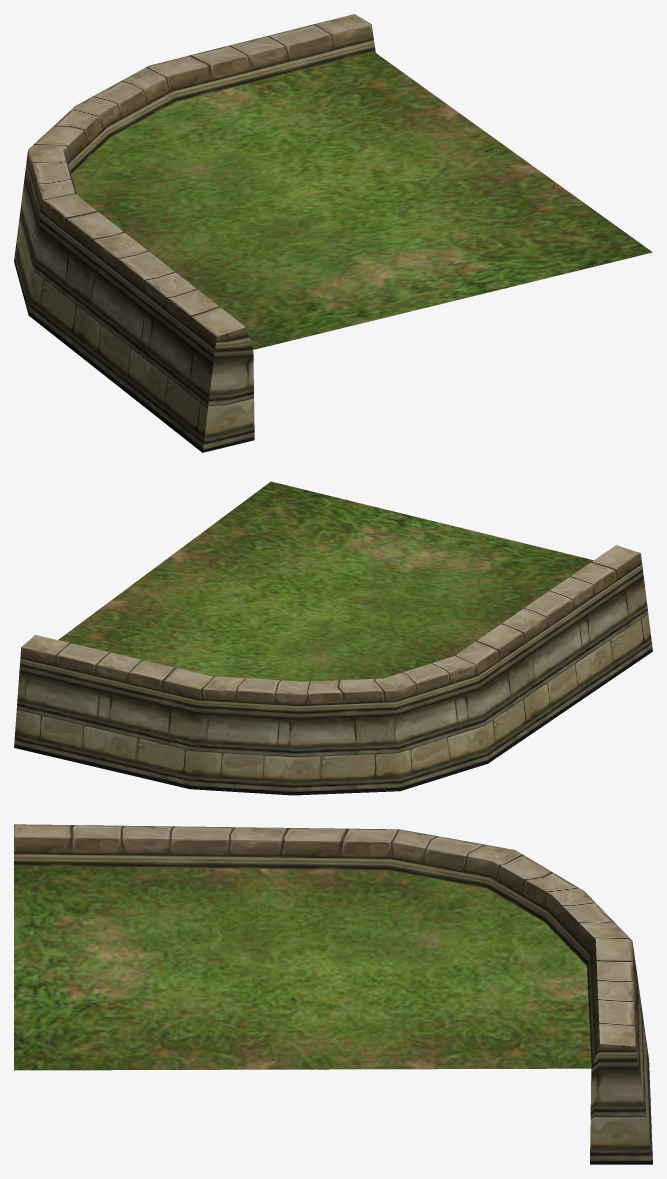
File: DN_mchuatan01.FBX
The picture shows the model from 3 angles, top to bottom: view 1: azimuth 30°, elevation 25°; view 2: azimuth 150°, elevation 25°; view 3: azimuth 270°, elevation 25°; orthographic projection. The views are drawn at different scales.
Visible parts, largest first — view 1: DN_mchuatan01; view 2: DN_mchuatan01; view 3: DN_mchuatan01.
Part boxes in pixels (box(x1,y1,x2,y2)): DN_mchuatan01: box(14, 14, 652, 452); DN_mchuatan01: box(14, 481, 652, 795); DN_mchuatan01: box(14, 824, 652, 1164).
Bounding box in the file's own units: 383 × 93.27 × 448.
